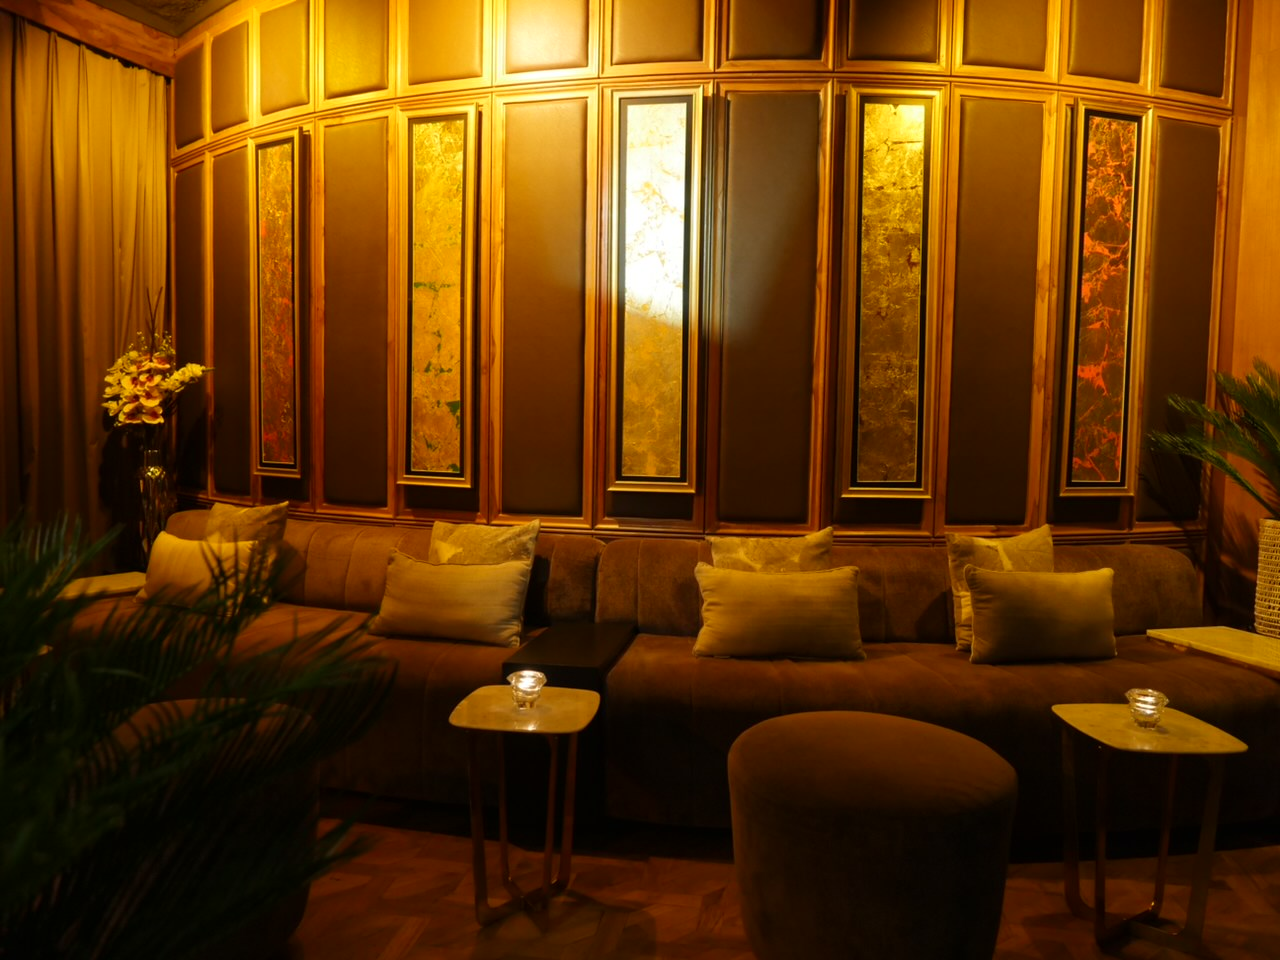bantal: (694, 563, 864, 658), (965, 566, 1121, 665), (376, 555, 532, 641), (143, 533, 258, 609)
meja: (1042, 691, 1252, 953), (440, 679, 606, 930)
tanaman: (2, 549, 280, 960), (1164, 356, 1280, 511)
